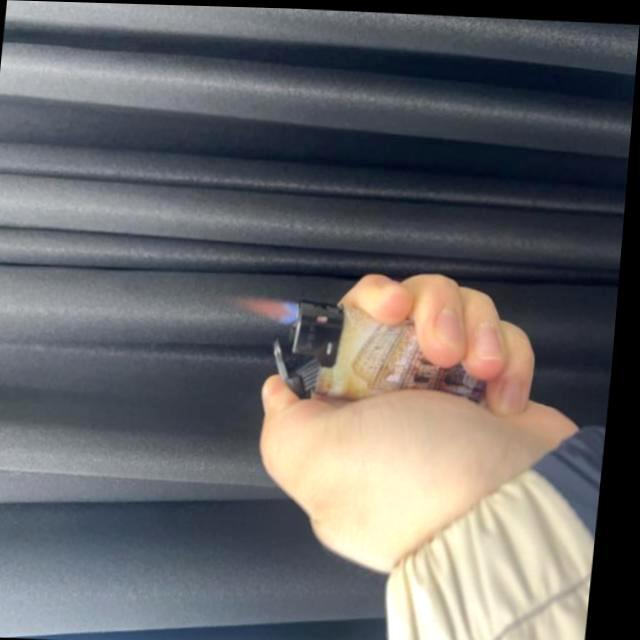fire: (236, 291, 304, 323)
